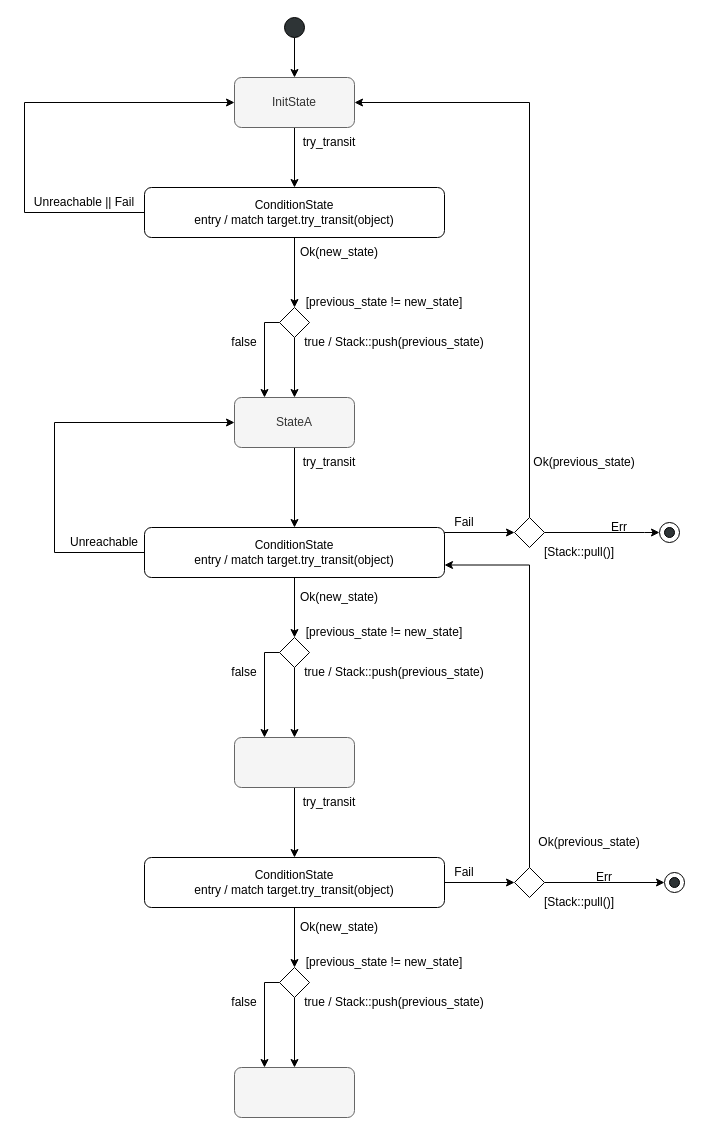
This 702x1135 diagram has some shape labels left out. The centre of each missing label's shape, as x and y in pixels:
"StateB" belongs at point 294,762.
"StateC" belongs at point 294,1092.
